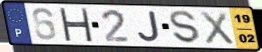2: (100, 8, 132, 43)
6: (31, 7, 58, 42)
H: (57, 7, 94, 43)
J: (136, 10, 162, 44)
S: (168, 10, 202, 45)
X: (198, 10, 236, 46)
